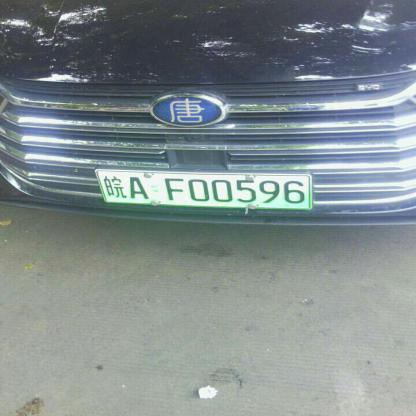lp: (95, 170, 311, 209)
